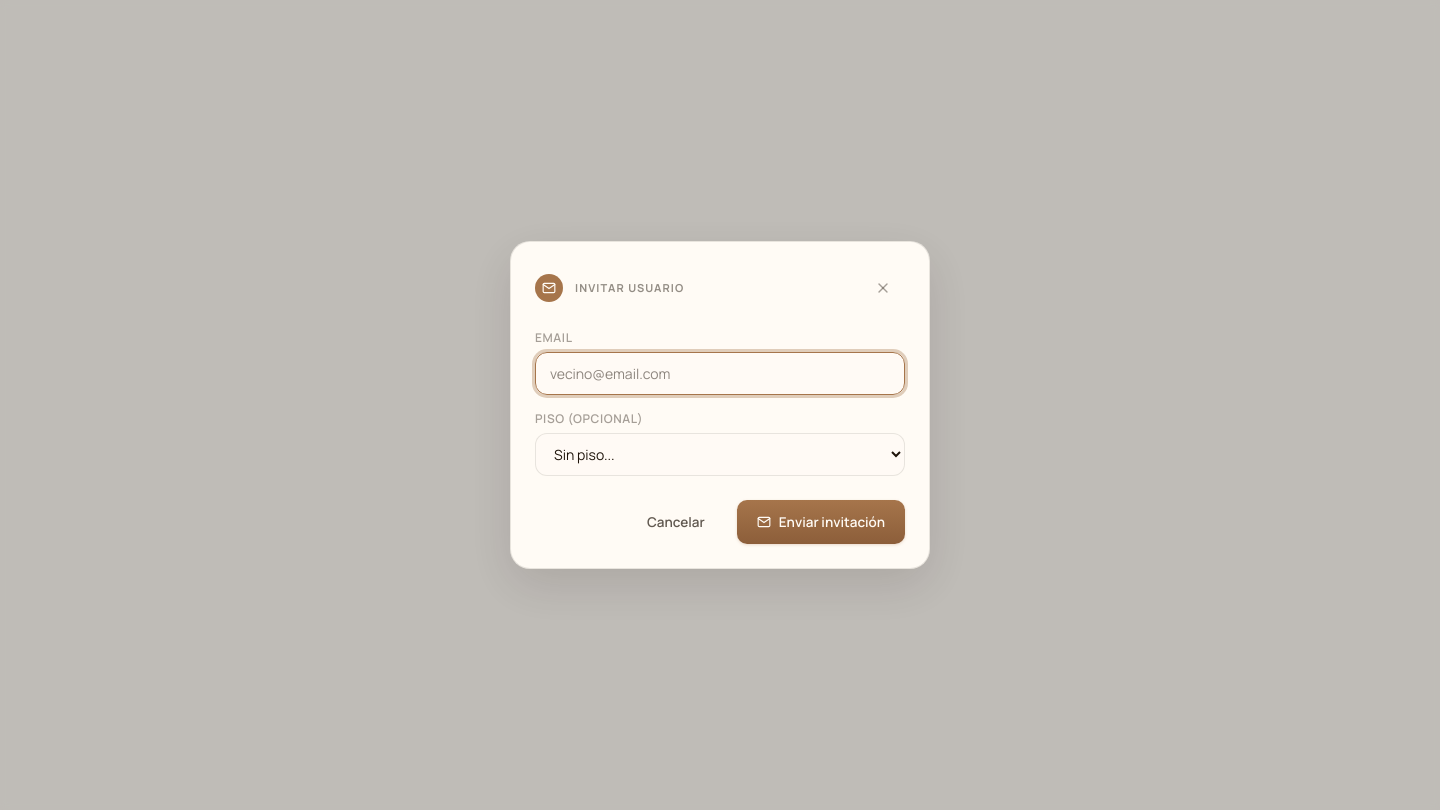
Test case: InviteUserModal › shows API error
The width and height of the screenshot is (1440, 810).
Step 1. Type "test@test.com" into the field with placeholder "vecino@email.com" → (720, 374), box [535, 352, 905, 395]
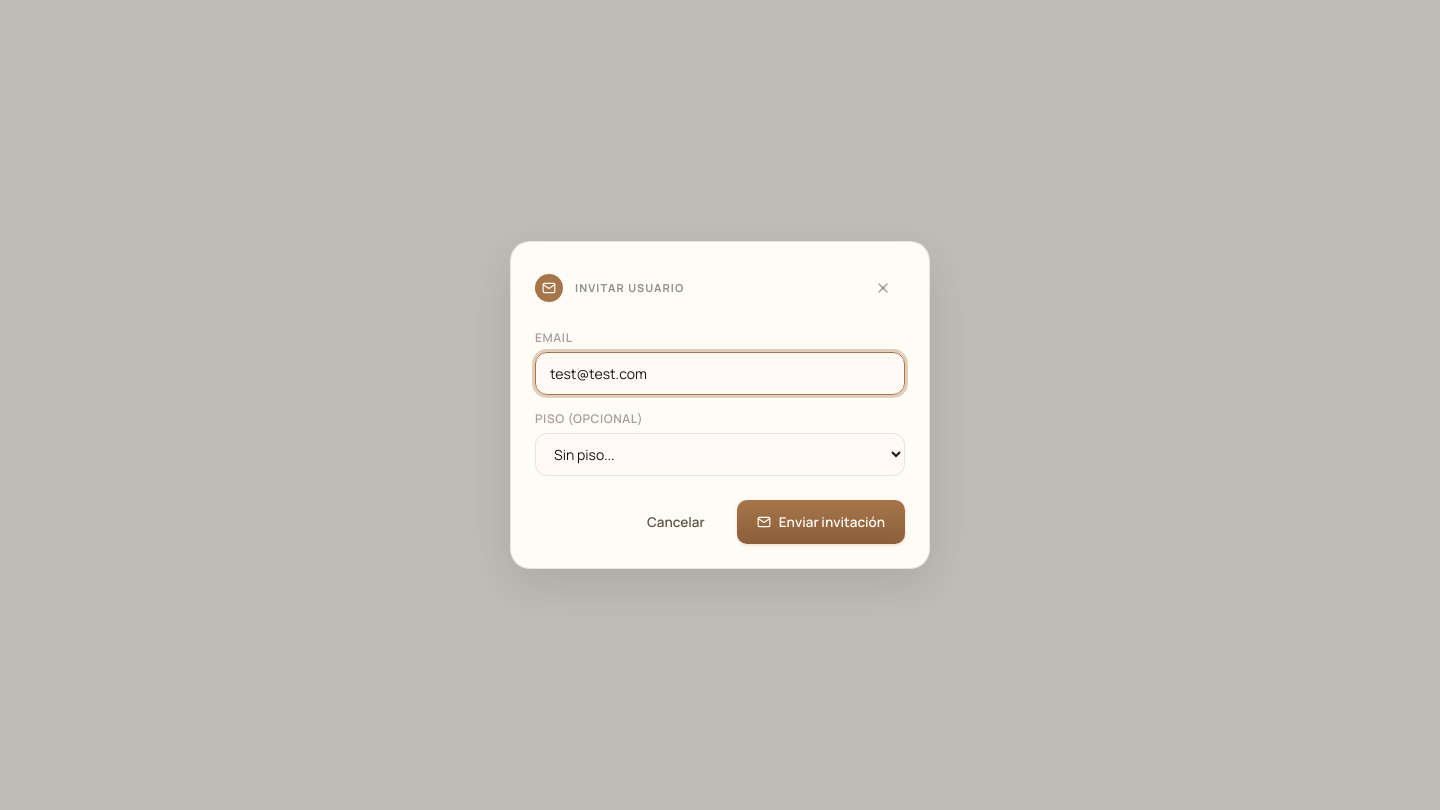
Step 2. Click the button "Enviar invitación" → (821, 522), box [737, 500, 905, 544]
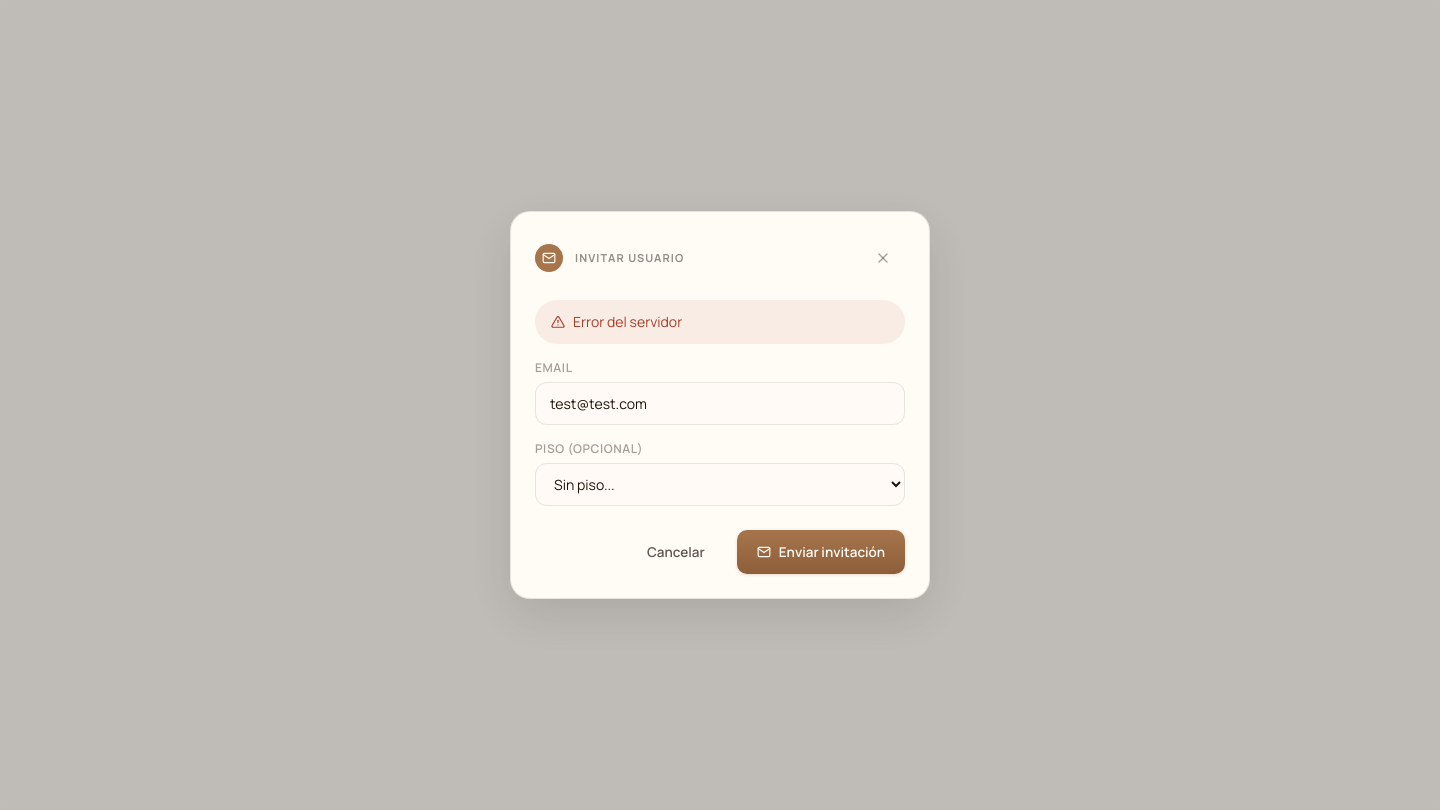
Check: the text "Error del servidor" is shown, box [535, 300, 905, 344]
